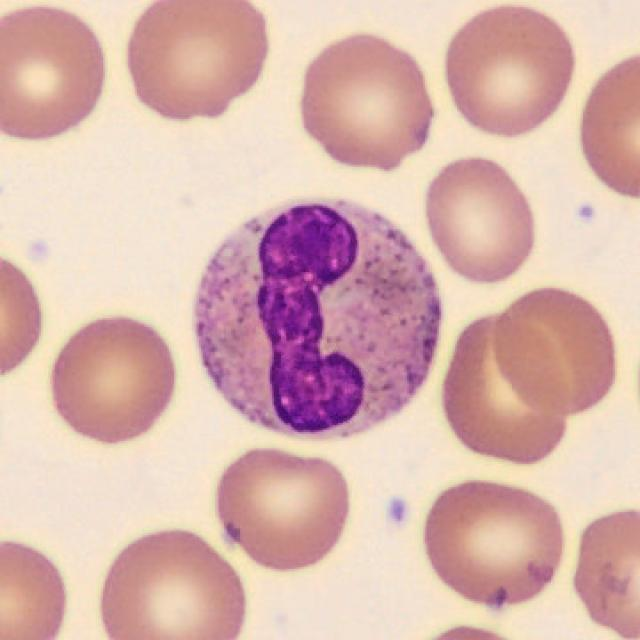Neutrofilo segmentado: (194, 201, 443, 439)
